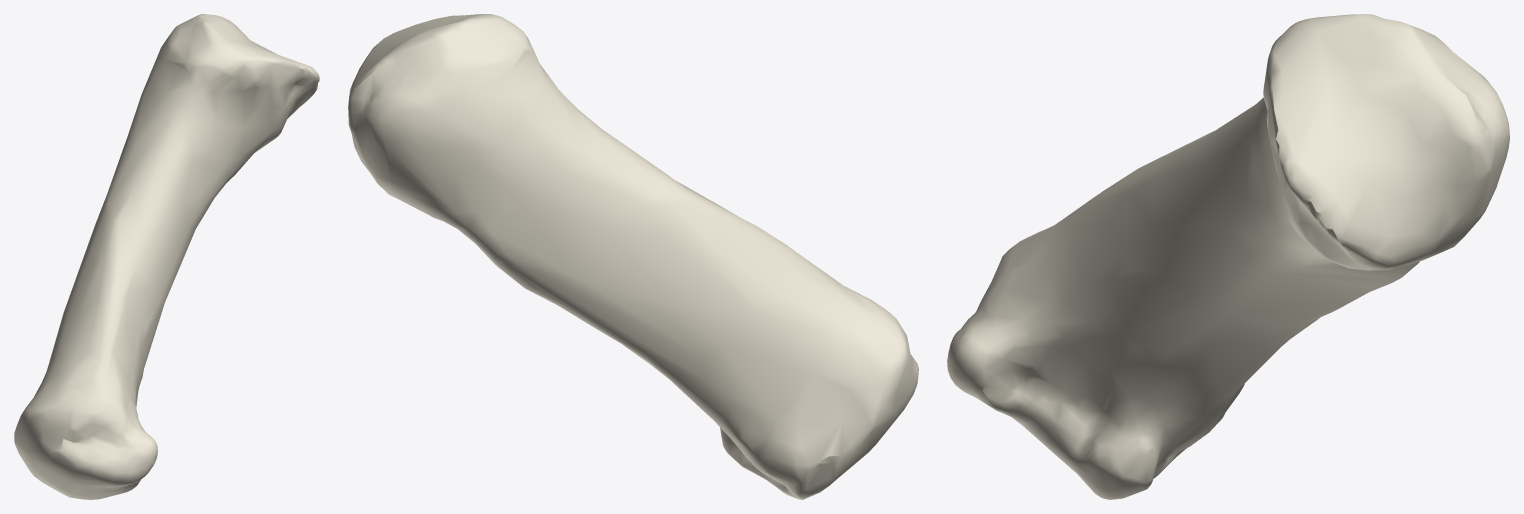
File: fma24464.glb
3 renders of one model, left to right at view 1: azimuth 30°, elevation 25°; view 2: azimuth 150°, elevation 25°; view 3: azimuth 270°, elevation 25°, orthographic. The views are drawn at different scales.
Parts seen in each view (by area): view 1: FMA24464; view 2: FMA24464; view 3: FMA24464.
Boxes of the visible parts, box(x1,y1,x2,y2) form: FMA24464: box(14, 14, 319, 499); FMA24464: box(348, 14, 918, 499); FMA24464: box(947, 14, 1509, 499).
Size of the model in its own units: 0.0376 by 0.0373 by 0.0307.
